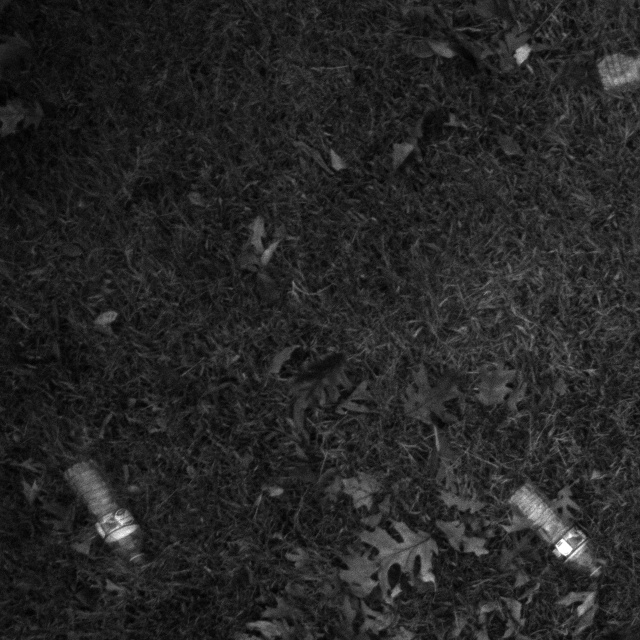bottle: (498, 471, 615, 590), (54, 450, 152, 566), (582, 28, 640, 106)
